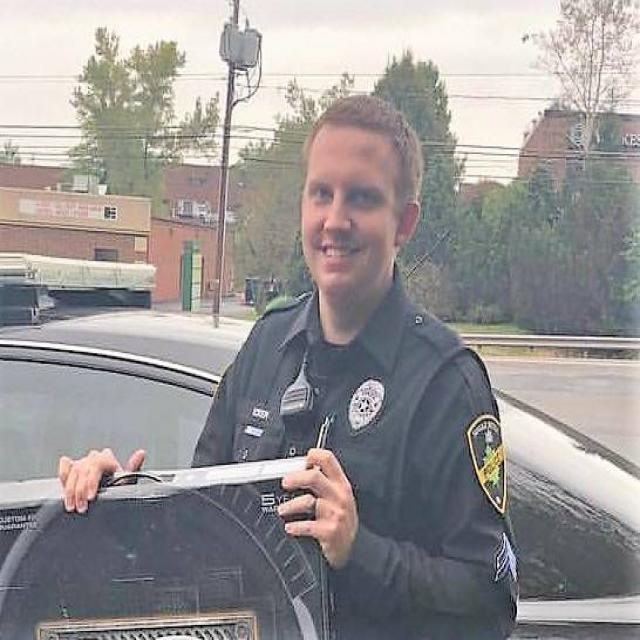police: (176, 84, 535, 640)
